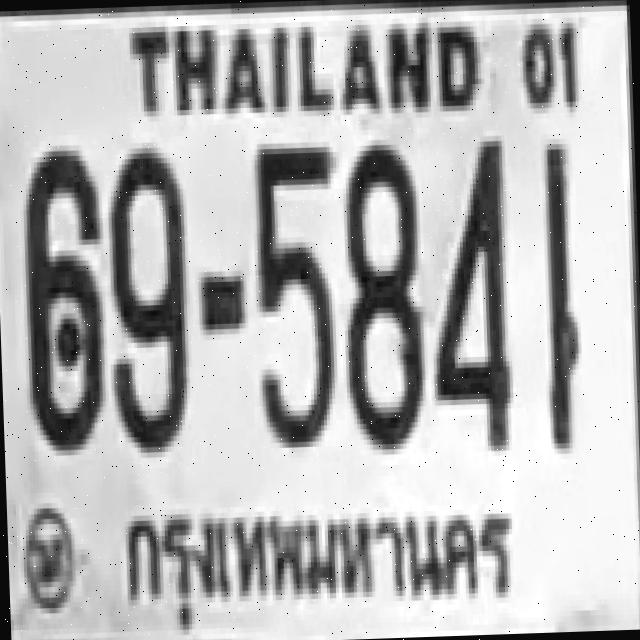1: (536, 132, 580, 448)
4: (426, 133, 512, 445)
5: (249, 138, 338, 446)
6: (18, 144, 104, 446)
8: (337, 138, 422, 446)
9: (104, 141, 190, 448)
Bangkok: (110, 476, 522, 630)
